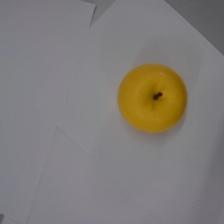yellow: (118, 64, 188, 132)
